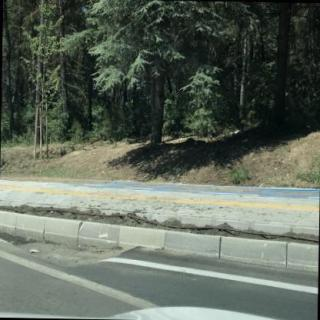pothole: (15, 242, 130, 268)
